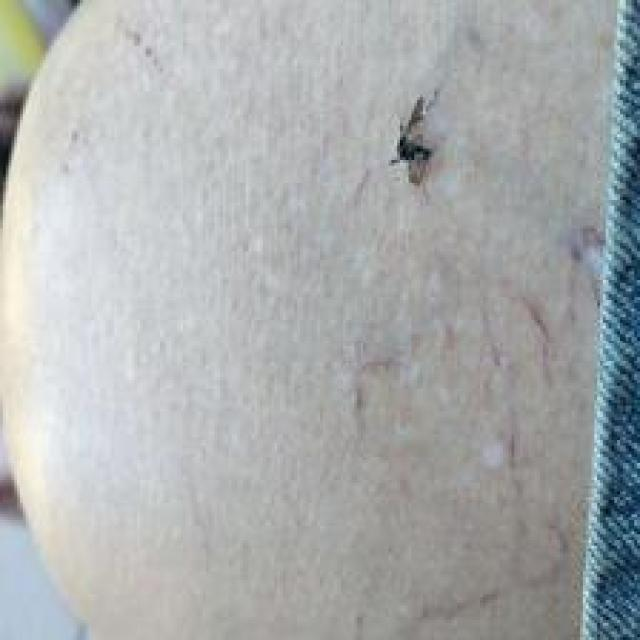Aedes albopictus: (389, 90, 437, 187)
